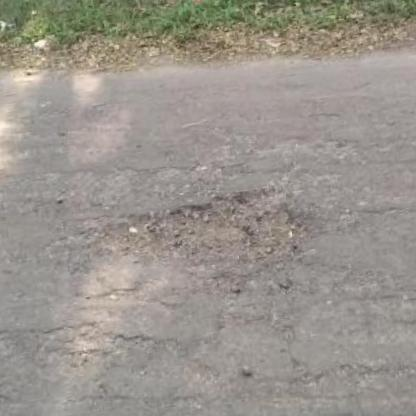pothole: (91, 178, 324, 296)
